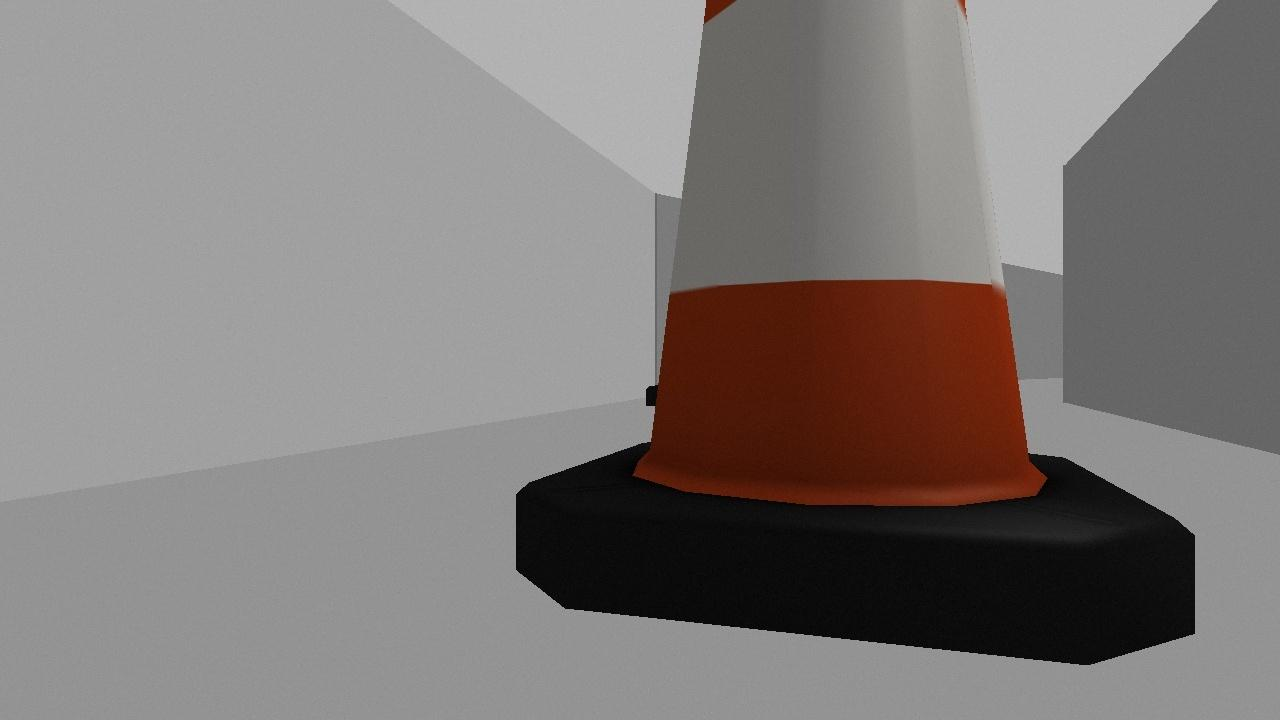cone_barrel: (515, 0, 1194, 666)
